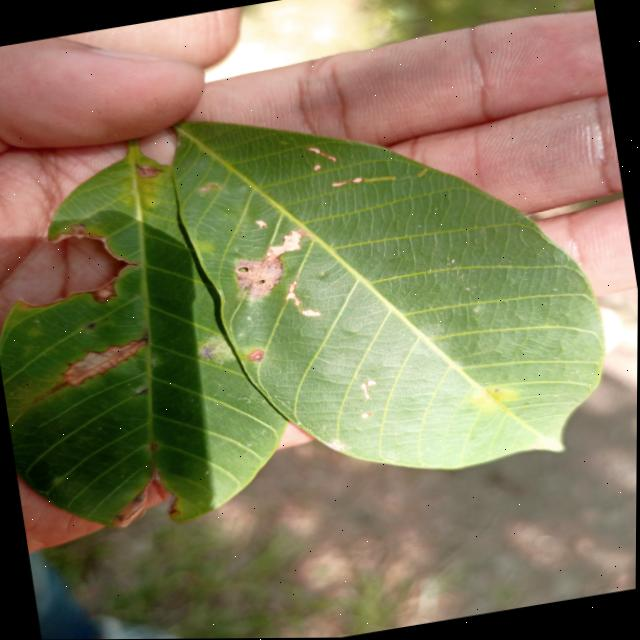Corynespora: (43, 332, 157, 395)
Leaf-Blight: (231, 230, 310, 301), (107, 490, 152, 529), (308, 144, 337, 166), (284, 280, 302, 308), (302, 308, 322, 320), (256, 218, 268, 231), (332, 181, 346, 188), (351, 178, 363, 184), (313, 165, 323, 172)
